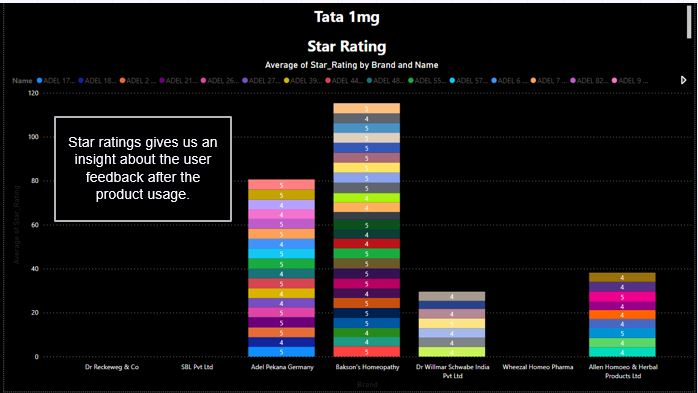

Layout of this report page (visuals, bound fields, positions):
{"tool":"powerbi","page":{"name":"Star Rating","canvas":[1280,720],"ordinal":9},"visuals":[{"type":"columnChart","fields":{"Category":["1Mg_homeopathic.Brand"],"Y":["Avg(1Mg_homeopathic.Star_Rating)"],"Series":["1Mg_homeopathic.Name"]},"box":[9.4,103.9,1269.9,616.1],"z":0},{"type":"textbox","box":[0,0,1279.4,103.9],"z":1000}]}

Visuals, with their boxes in screenshot pixels (x1, y1, x2, y2), scaled from the page's 1280x720 canvas onto the 698x393 screenshot:
columnChart - 1Mg_homeopathic.Brand x Avg(1Mg_homeopathic.Star_Rating): rect(5, 57, 697, 392)
textbox: rect(0, 0, 697, 57)
